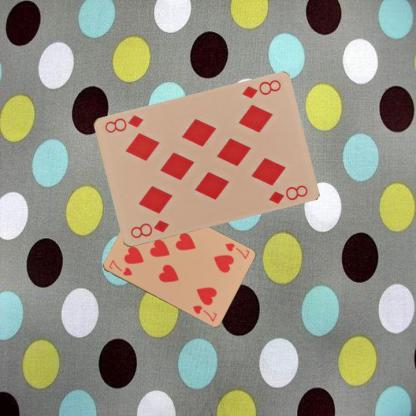7h: (222, 240, 251, 260), (106, 257, 133, 277)
8d: (128, 217, 170, 241), (239, 78, 282, 100)
